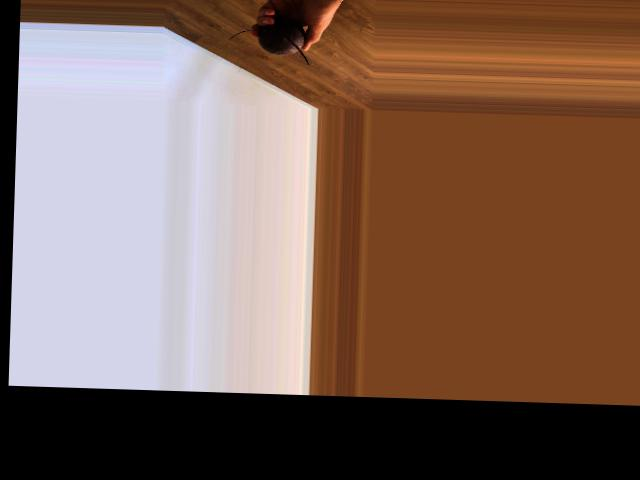beet: (227, 16, 309, 64)
